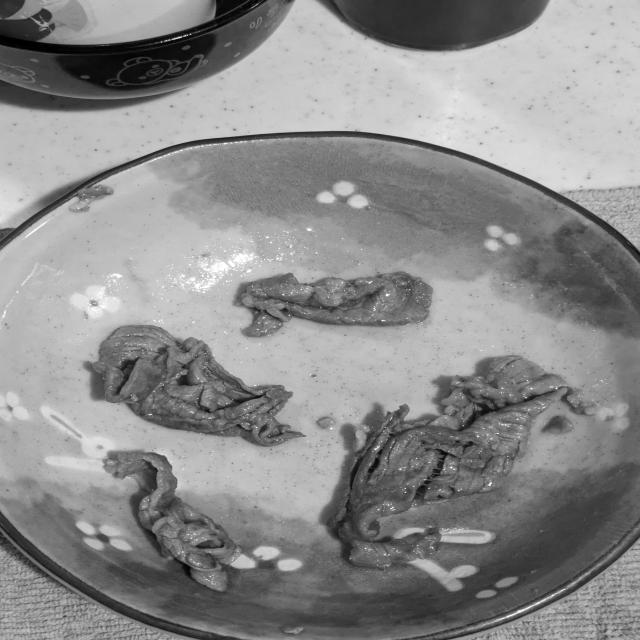OK cooked beef,: (313, 349, 593, 576), (79, 320, 308, 447), (103, 448, 252, 595), (222, 266, 435, 340)
